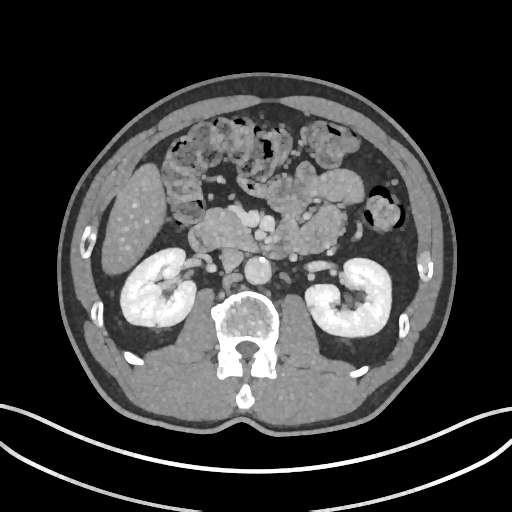Lesion: (152, 321, 161, 332)
